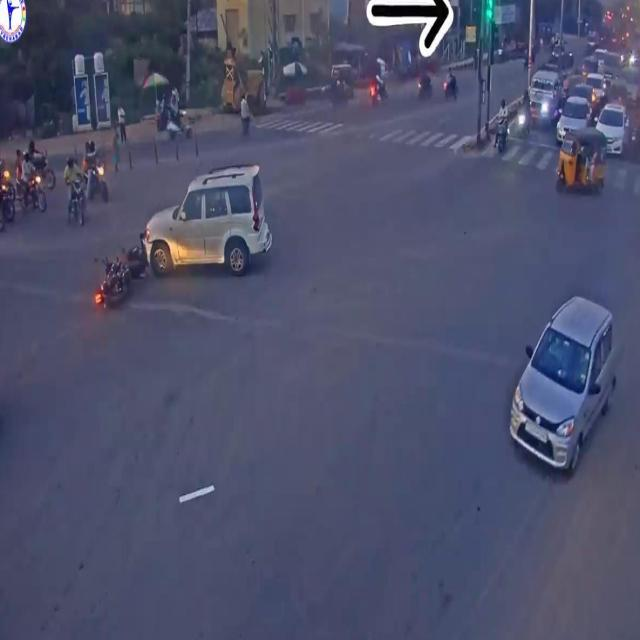accident: (89, 159, 278, 317)
non_accident: (495, 71, 640, 205), (0, 140, 49, 240), (68, 130, 112, 230)
